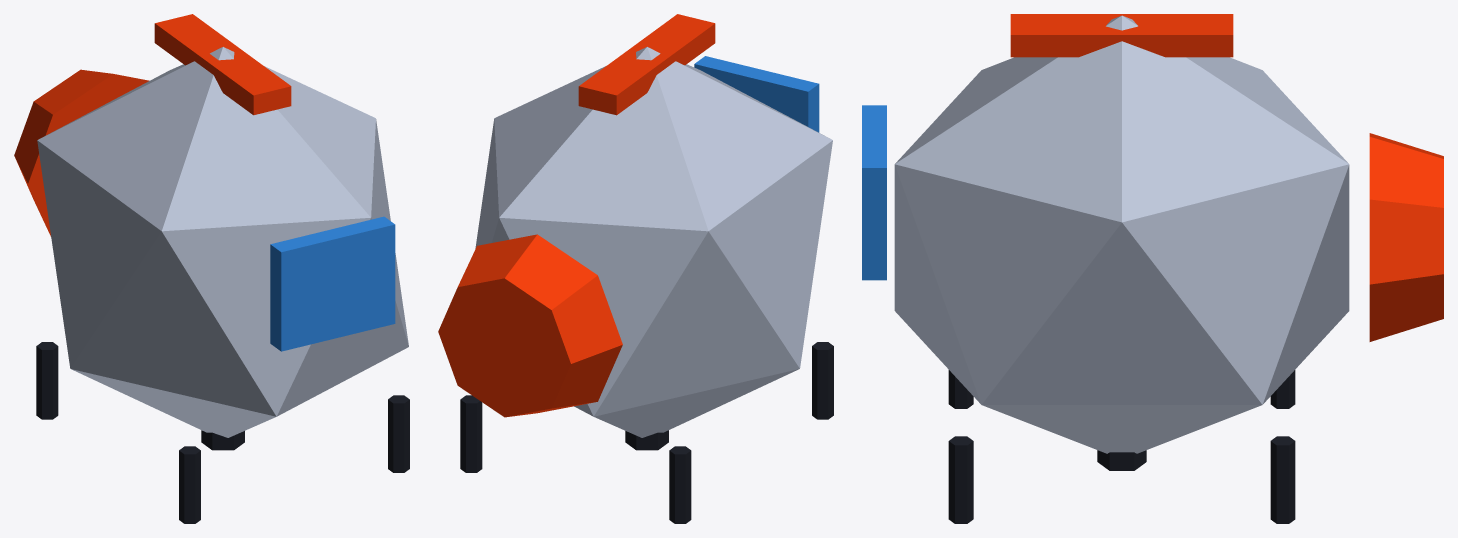
The model's file is escape_pod.obj.
3 views of the same model, side by side, from view 1: azimuth 30°, elevation 25°; view 2: azimuth 150°, elevation 25°; view 3: azimuth 270°, elevation 25° (orthographic). The views are drawn at different scales.
Visible parts, largest first — view 1: escape_pod; view 2: escape_pod; view 3: escape_pod.
Boxes of the visible parts, x1=… form: escape_pod: x1=14, y1=14, x2=409, y2=523; escape_pod: x1=438, y1=14, x2=833, y2=523; escape_pod: x1=862, y1=14, x2=1443, y2=523.
Bounding box in the file's own units: 1.61 × 1.99 × 2.35.
